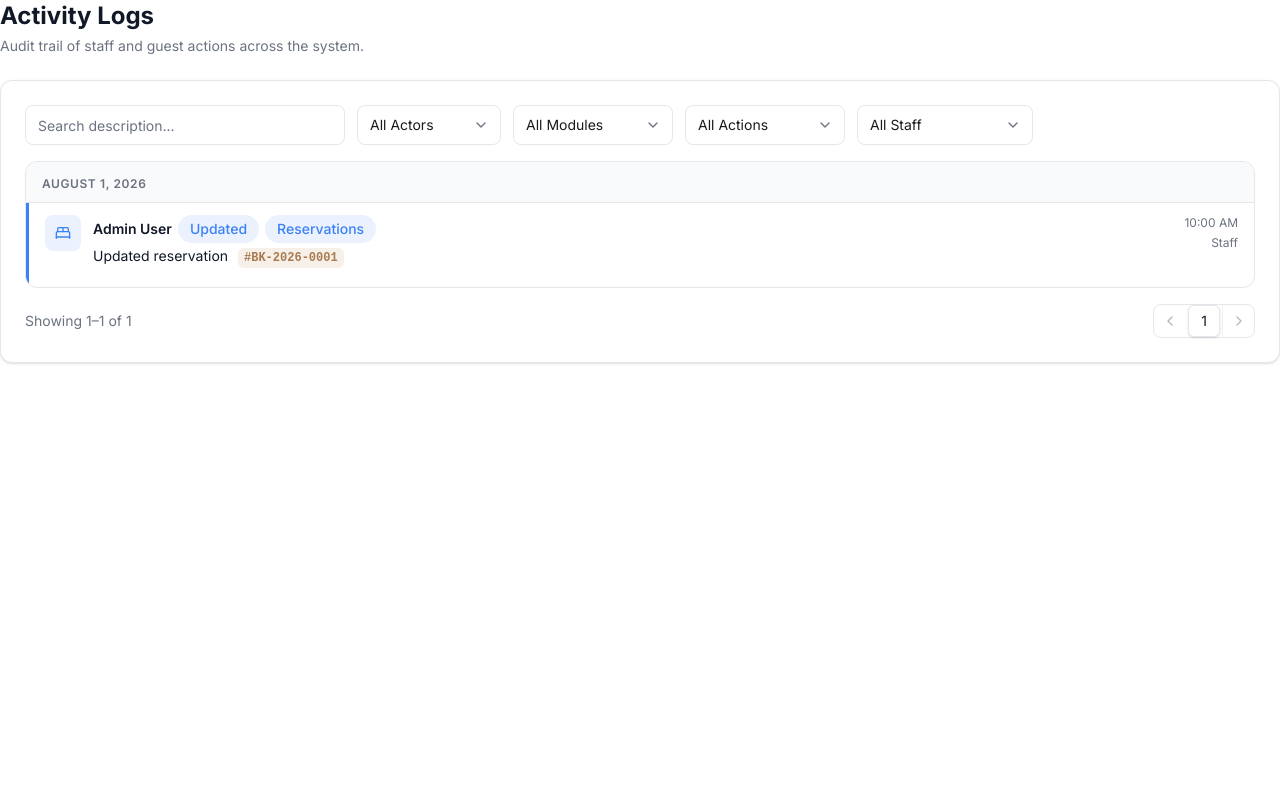
Test: ActivityLogsPage › opens detail modal showing actor, description, and friendly change diff
Click the button "Updated Reservation" at (63, 233), box [26, 203, 1254, 287]
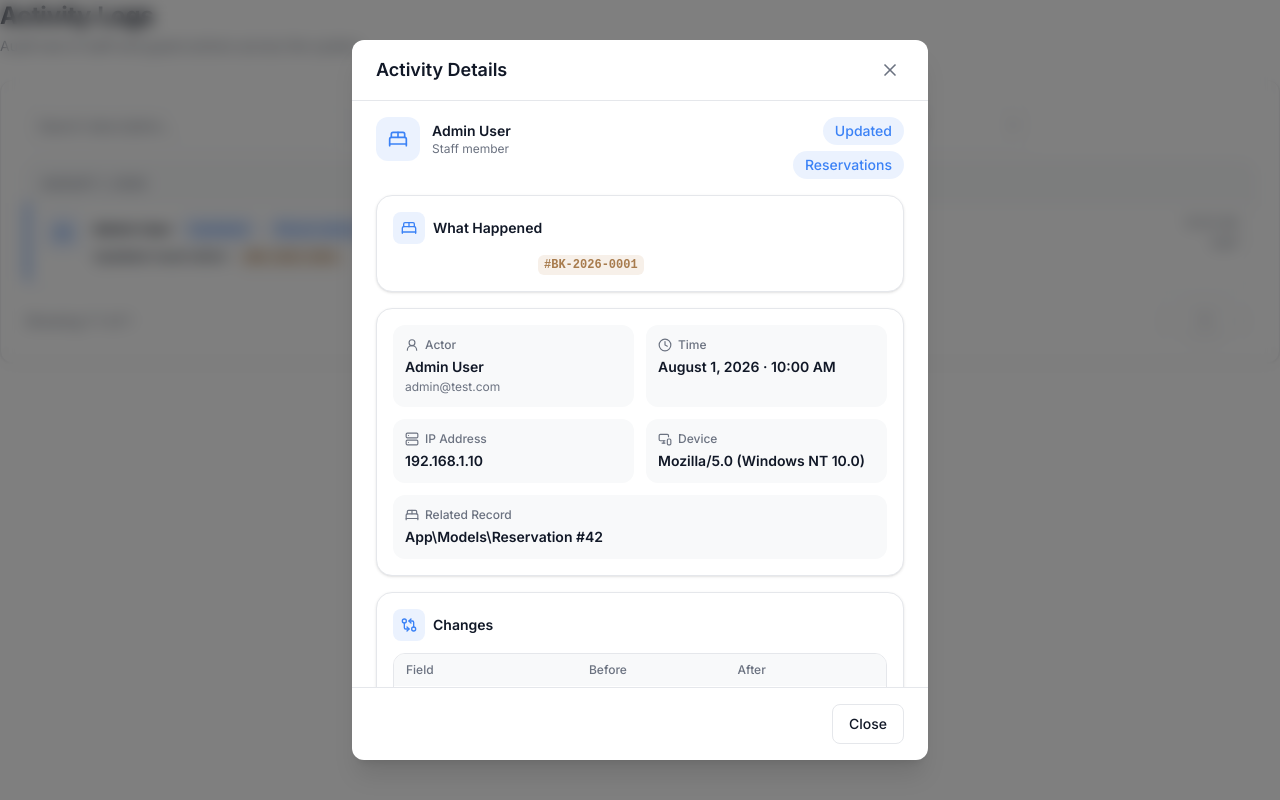
Expected: the heading "Activity Details" is shown, [376, 56, 507, 84]
Expected: the text "192.168.1.10" is shown, [405, 452, 483, 469]
Expected: the text "Mozilla/5.0 (Windows NT 10.0)" is shown, [658, 451, 875, 471]
Click the button "Close" at (868, 724), box [832, 704, 904, 744]
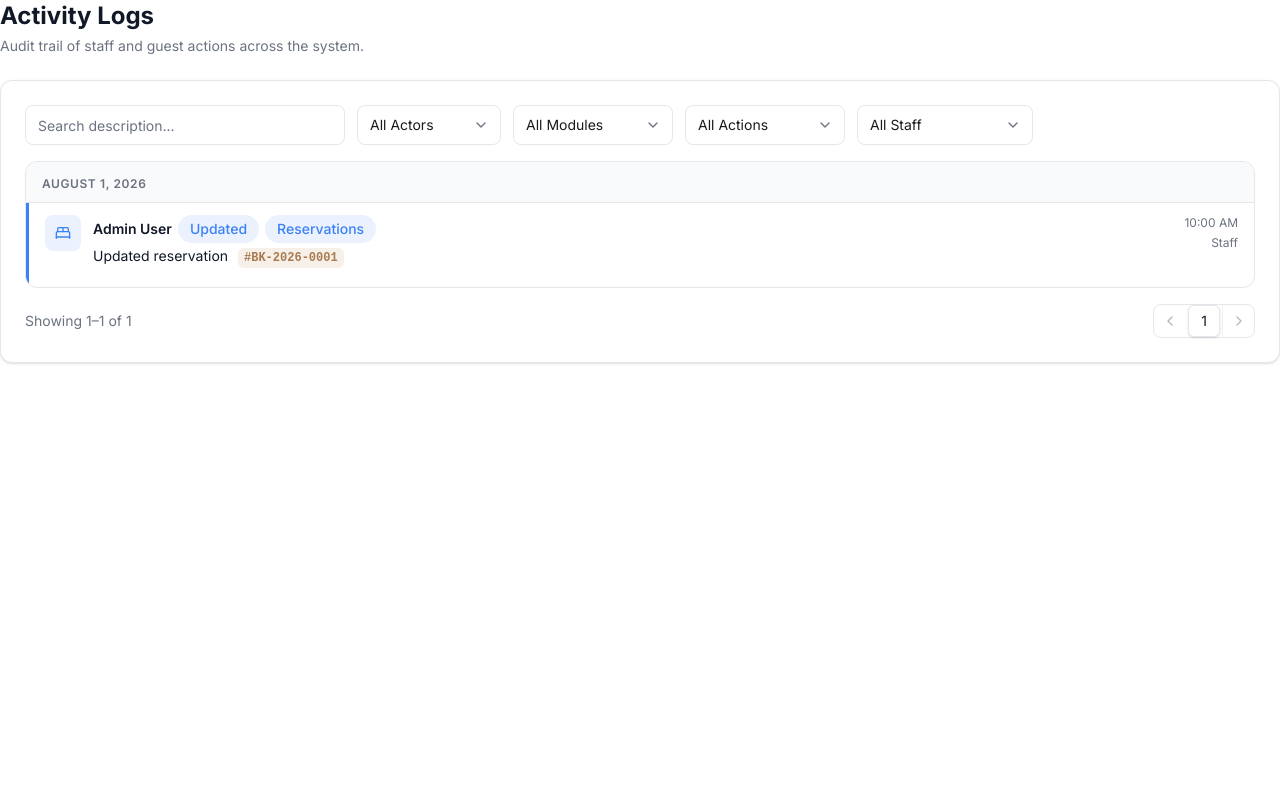
Expected: the heading "Activity Details" is gone
